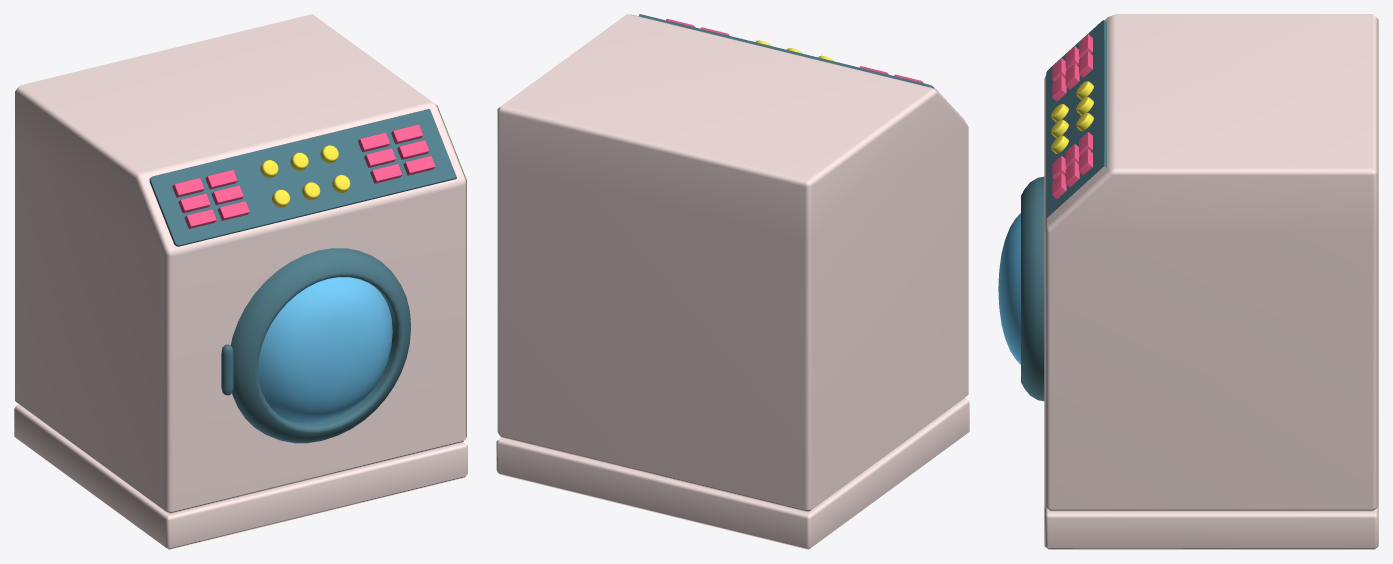
File: Public_13_Drying_machine_1.glb
3 renders of one model, left to right at view 1: azimuth 30°, elevation 25°; view 2: azimuth 150°, elevation 25°; view 3: azimuth 270°, elevation 25°, orthographic. The views are drawn at different scales.
Visible parts, largest first — view 1: Public_13_Drying_machine_1; view 2: Public_13_Drying_machine_1; view 3: Public_13_Drying_machine_1.
Part boxes in pixels (left/top/right/bottom): Public_13_Drying_machine_1: left=14, top=14, right=467, bottom=549; Public_13_Drying_machine_1: left=496, top=14, right=969, bottom=549; Public_13_Drying_machine_1: left=998, top=14, right=1378, bottom=549.
Bounding box in the file's own units: 1.62 × 1.82 × 1.64.
Materials: 1 (1 with a texture image).
